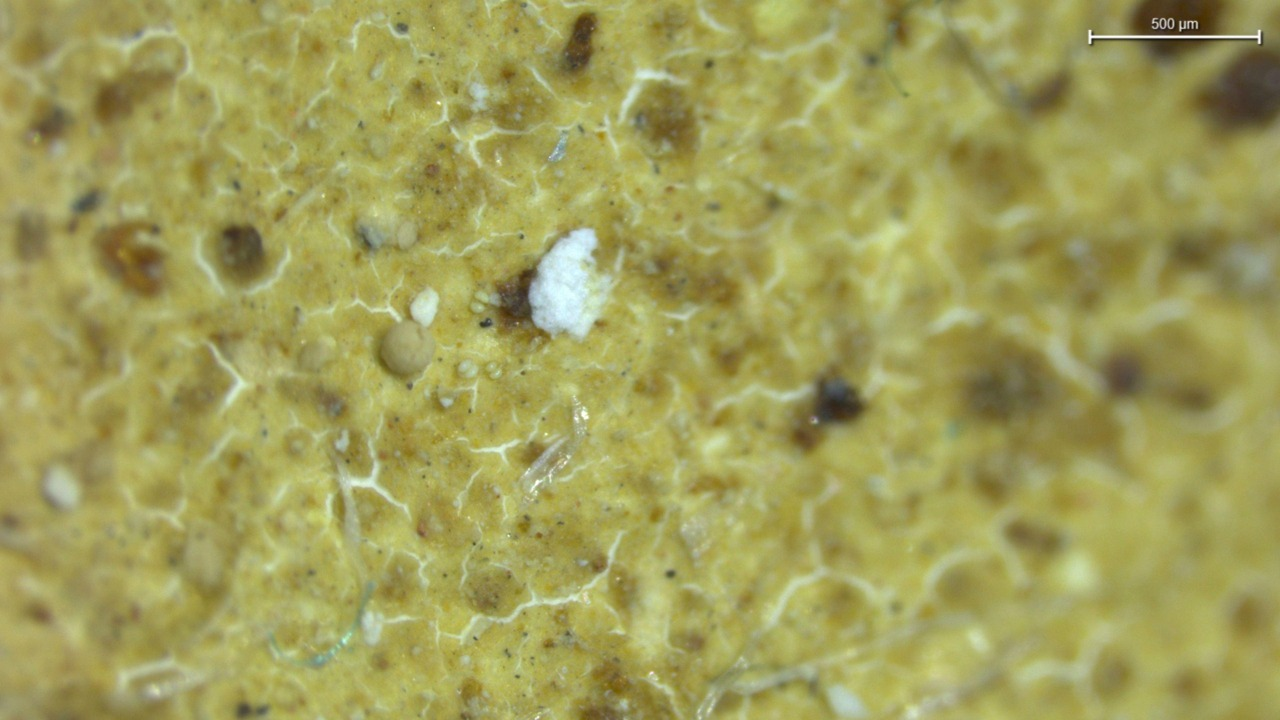microplastic_fragment: (528, 228, 613, 339), (377, 321, 433, 379)
